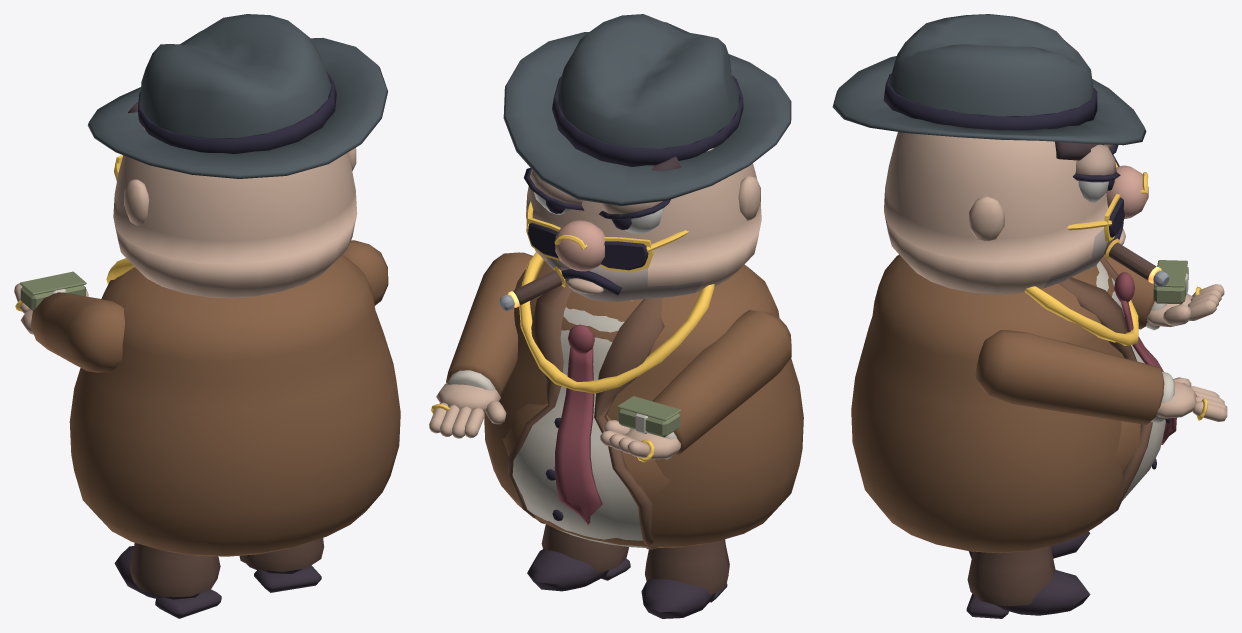
File: boss.glb
3 views of the same model, side by side, from view 1: azimuth 30°, elevation 25°; view 2: azimuth 150°, elevation 25°; view 3: azimuth 270°, elevation 25° (orthographic). The views are drawn at different scales.
Visible parts, largest first — view 1: Torso, Hat, HeadPivot, ArmLeft, FootLeft, FootRight, ArmRight, TopBill, Cash; view 2: Torso, Hat, HeadPivot, ArmLeft, ArmRight, FootLeft, FootRight, Sunglasses, Hand__L, Hand__R, Cigar, Cash (+4 smaller); view 3: Torso, HeadPivot, Hat, ArmRight, FootRight, Hand__L, LidRight, ArmLeft, Cigar, Sunglasses, Hand__R, Cash (+2 smaller).
Part boxes in pixels (x1,y1,x2,y2): Torso: (69, 254, 400, 556); Hat: (87, 14, 387, 178); HeadPivot: (113, 102, 357, 298); ArmLeft: (30, 292, 124, 372); FootLeft: (114, 543, 221, 618); FootRight: (239, 538, 324, 592); ArmRight: (342, 240, 388, 305); TopBill: (19, 271, 86, 295); Cash: (20, 285, 85, 310); Torso: (484, 252, 803, 549); Hat: (503, 14, 791, 205); HeadPivot: (526, 148, 761, 301); ArmLeft: (652, 310, 791, 459); ArmRight: (446, 252, 532, 396); FootLeft: (641, 539, 729, 618); FootRight: (527, 524, 630, 591); Sunglasses: (526, 201, 688, 272); Hand__L: (600, 420, 680, 462); Hand__R: (436, 383, 506, 424); Cigar: (499, 266, 568, 310); Cash: (618, 408, 680, 437); Torso: (851, 254, 1176, 552); HeadPivot: (884, 132, 1148, 294); Hat: (832, 14, 1146, 145); ArmRight: (975, 330, 1174, 424); FootRight: (966, 546, 1090, 618); Hand__L: (1146, 284, 1224, 326); LidRight: (1073, 144, 1120, 182); ArmLeft: (1103, 254, 1166, 330); Cigar: (1104, 238, 1169, 287); Sunglasses: (1066, 155, 1148, 241); Hand__R: (1156, 377, 1197, 418); Cash: (1153, 267, 1188, 304).
Size of the model in its own units: 1.18 by 2.04 by 1.32.
